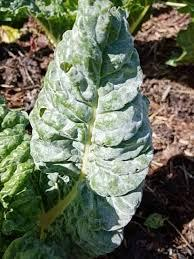Bok-Choy-Diseased: (57, 29, 143, 192)
